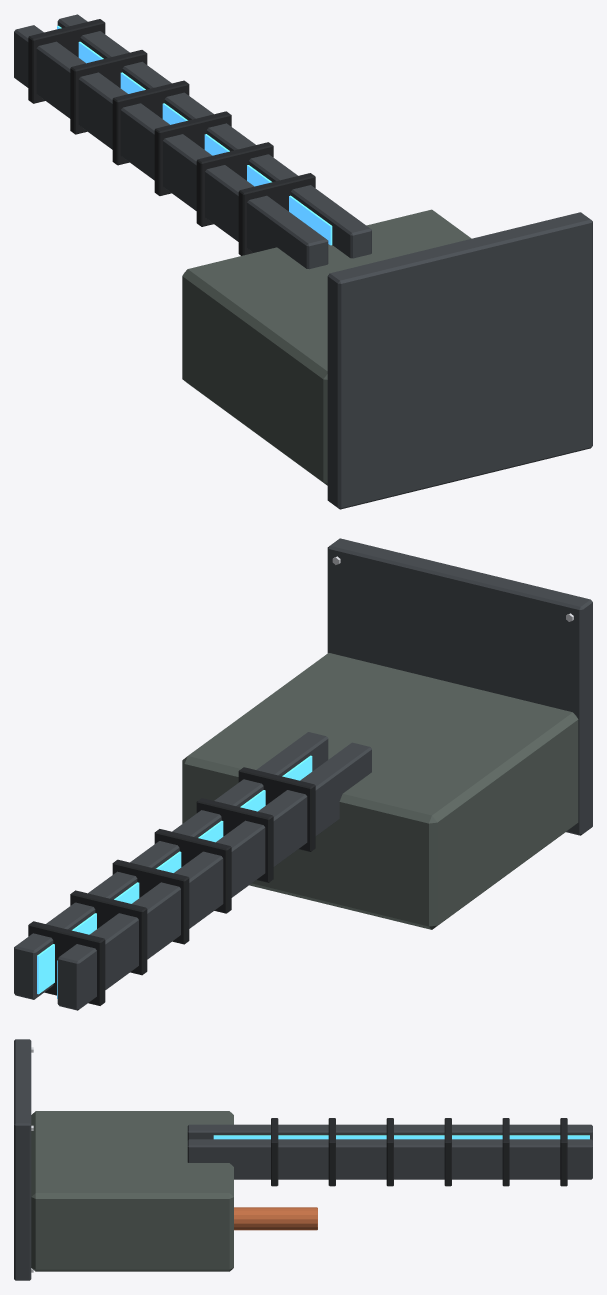
File: railgun.glb
3 renders of one model, top to bottom at view 1: azimuth 30°, elevation 25°; view 2: azimuth 150°, elevation 25°; view 3: azimuth 270°, elevation 25°, orthographic. The views are drawn at different scales.
Visible parts, largest first — view 1: railgun; view 2: railgun; view 3: railgun.
Boxes of the visible parts, <box> form: railgun: <box>14,14,592,509</box>; railgun: <box>14,538,592,1010</box>; railgun: <box>14,1039,592,1280</box>.
Bounding box in the file's own units: 1.4 × 1.2 × 4.
